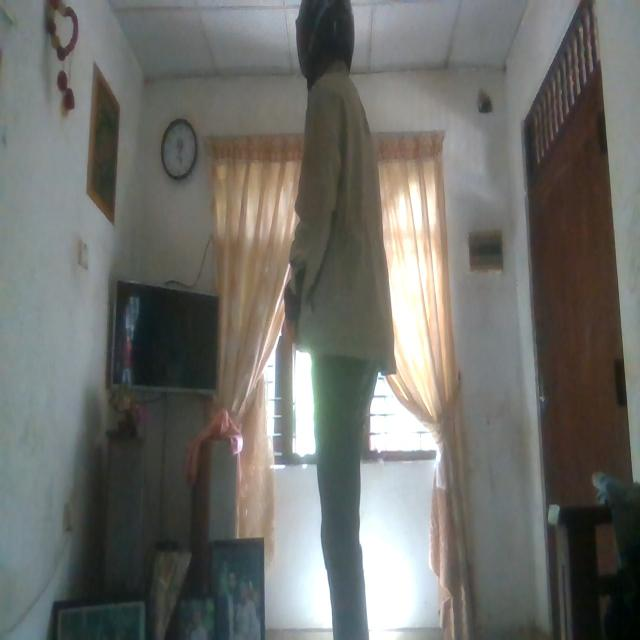Helmet_Wearer: (294, 5, 362, 87)
Jacket_Wearer: (289, 69, 413, 394)
Person: (286, 0, 410, 640)
